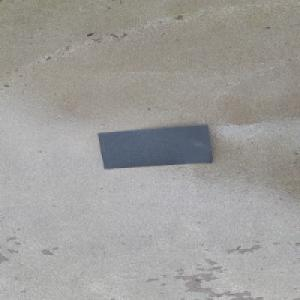PaintChip: (97, 124, 213, 169)
